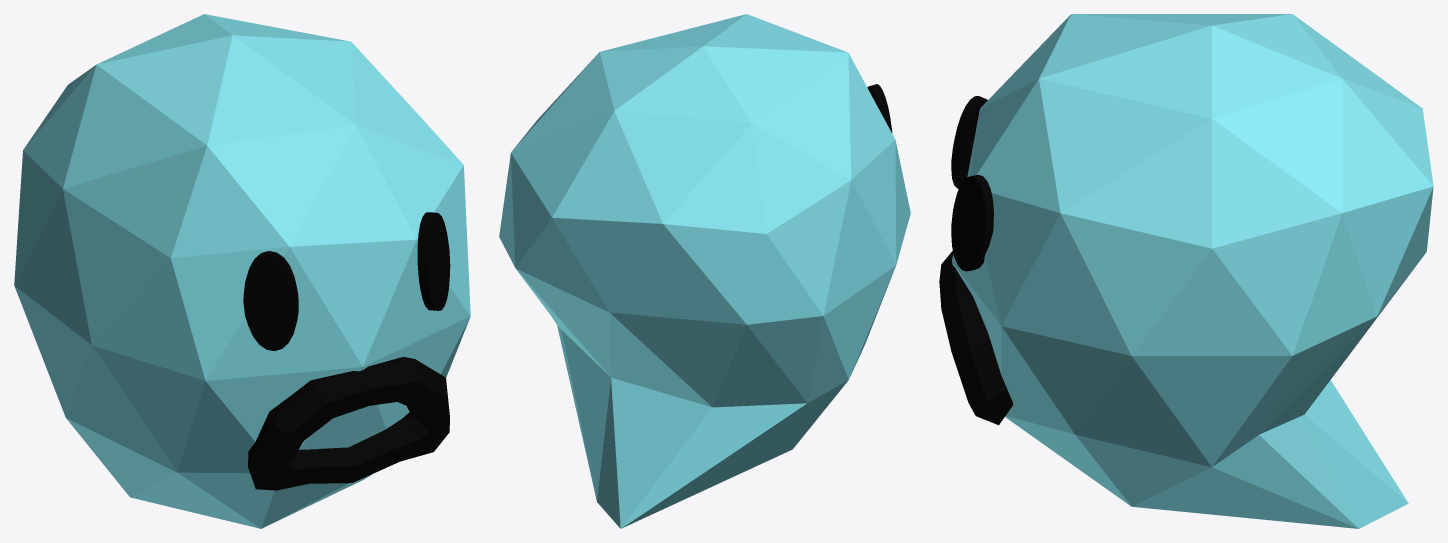
The model's file is Ghost.fbx.
The picture shows the model from 3 angles, left to right: view 1: azimuth 30°, elevation 25°; view 2: azimuth 150°, elevation 25°; view 3: azimuth 270°, elevation 25°; orthographic projection. The views are drawn at different scales.
Visible parts, largest first — view 1: Icosphere, Torus.003, Circle; view 2: Icosphere; view 3: Icosphere, Torus.003, Circle.
Part boxes in pixels (box(x1,y1,x2,y2)): Icosphere: box(14, 14, 470, 528); Torus.003: box(248, 357, 449, 490); Circle: box(243, 212, 450, 351); Icosphere: box(499, 14, 910, 528); Icosphere: box(951, 14, 1433, 528); Torus.003: box(939, 251, 1013, 425); Circle: box(951, 96, 993, 271).
Bounding box in the file's own units: 166 × 203 × 190.
